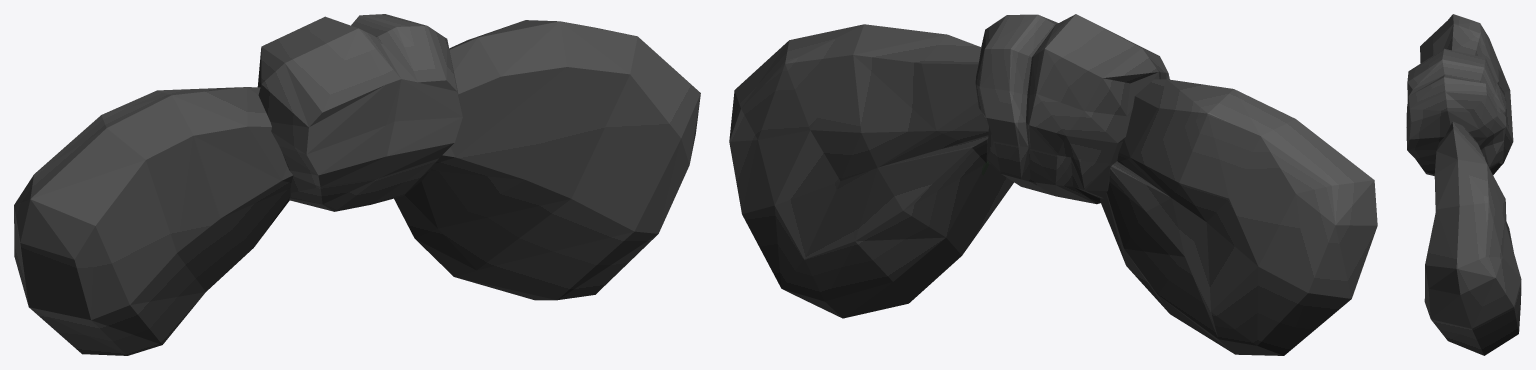
The model's file is CharSkyKid_Neck_AP07BowTie.glb.
3 views of the same model, side by side, from view 1: azimuth 30°, elevation 25°; view 2: azimuth 150°, elevation 25°; view 3: azimuth 270°, elevation 25° (orthographic). The views are drawn at different scales.
Parts seen in each view (by area): view 1: CharSkyKid_Neck_AP07BowTie; view 2: CharSkyKid_Neck_AP07BowTie; view 3: CharSkyKid_Neck_AP07BowTie.
Part boxes in pixels (x1=…): CharSkyKid_Neck_AP07BowTie: x1=14, y1=14, x2=700, y2=355; CharSkyKid_Neck_AP07BowTie: x1=729, y1=14, x2=1377, y2=355; CharSkyKid_Neck_AP07BowTie: x1=1406, y1=14, x2=1521, y2=355.
Size of the model in its own units: 1.49 by 0.7319 by 0.3449.
Materials: 1 (1 with a texture image).
